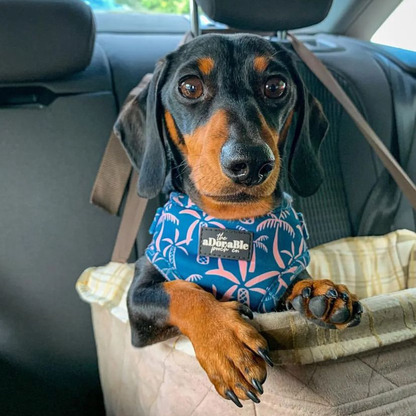dachshund: (110, 39, 388, 391)
